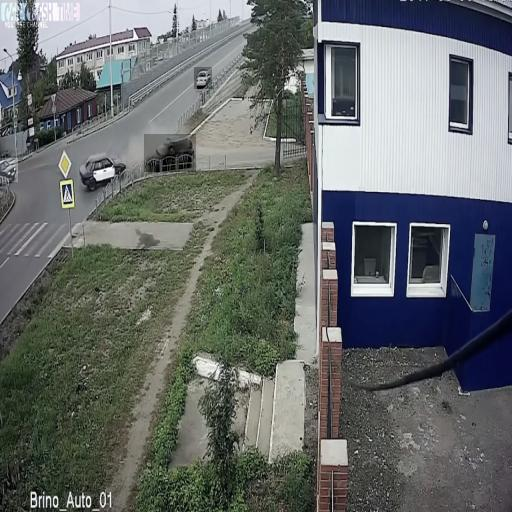小汽车: (144, 134, 196, 172), (77, 155, 126, 190), (0, 158, 18, 182), (194, 67, 212, 89)
